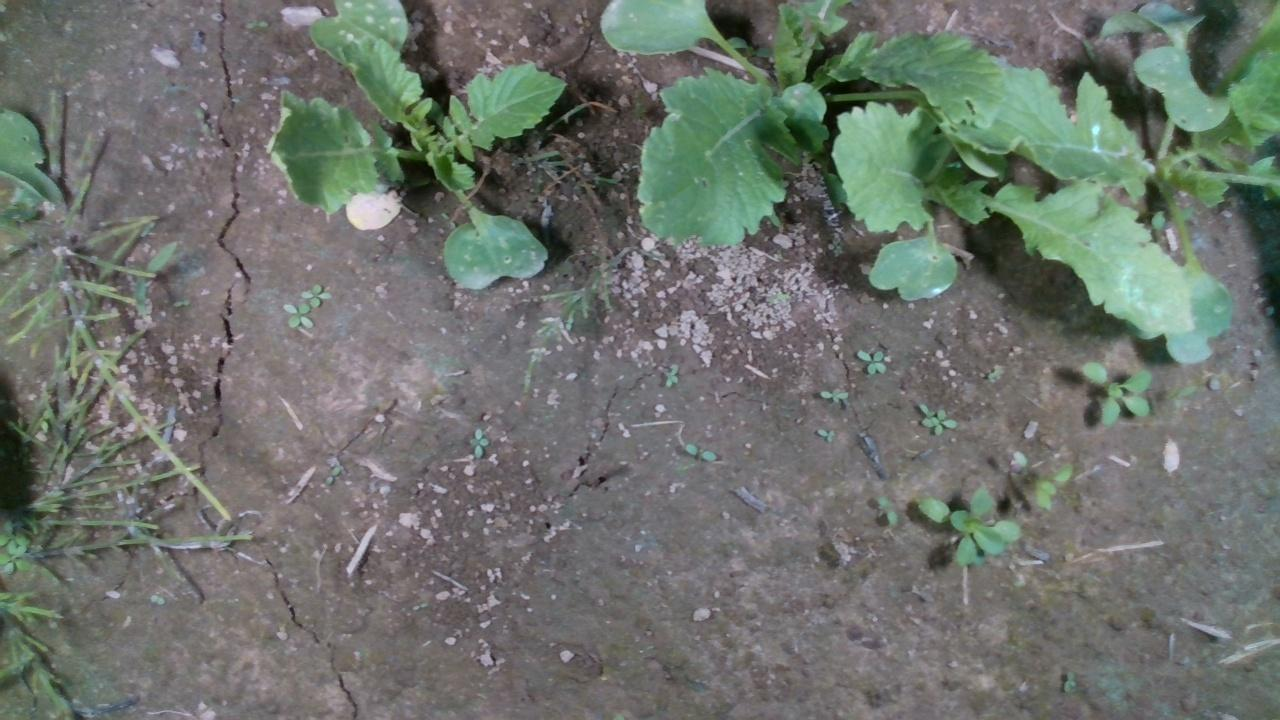weed: (1077, 359, 1151, 429), (854, 348, 888, 375), (464, 425, 489, 459), (681, 441, 717, 462), (816, 385, 850, 406), (659, 363, 680, 388), (812, 424, 837, 444), (241, 16, 268, 32)
